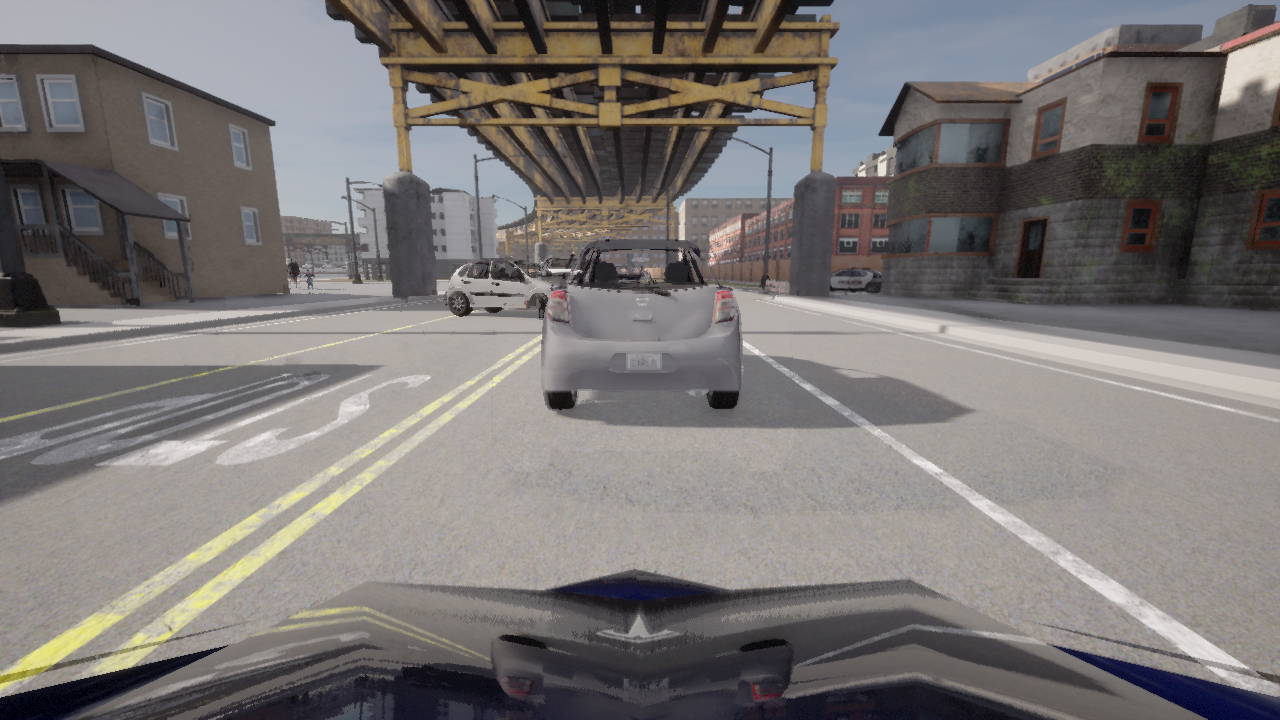cyclist: (0, 569, 1279, 719), (541, 240, 741, 410), (444, 259, 566, 318), (829, 267, 881, 292), (538, 255, 578, 278), (850, 268, 881, 292), (540, 261, 543, 266)
pedestrian: (286, 258, 298, 287), (304, 269, 313, 293)
